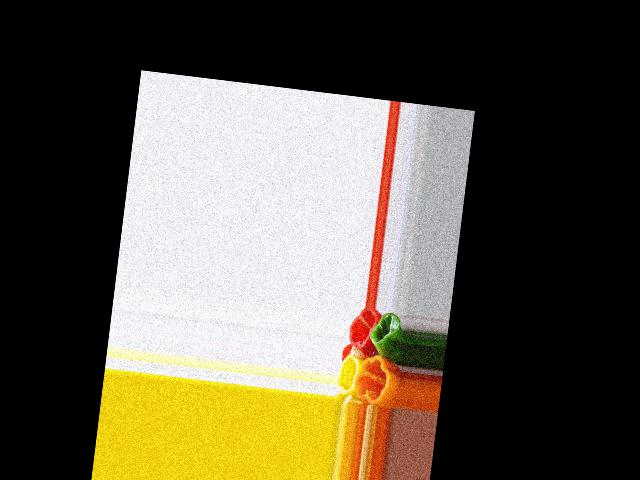bell_pepper: (346, 308, 377, 350)
